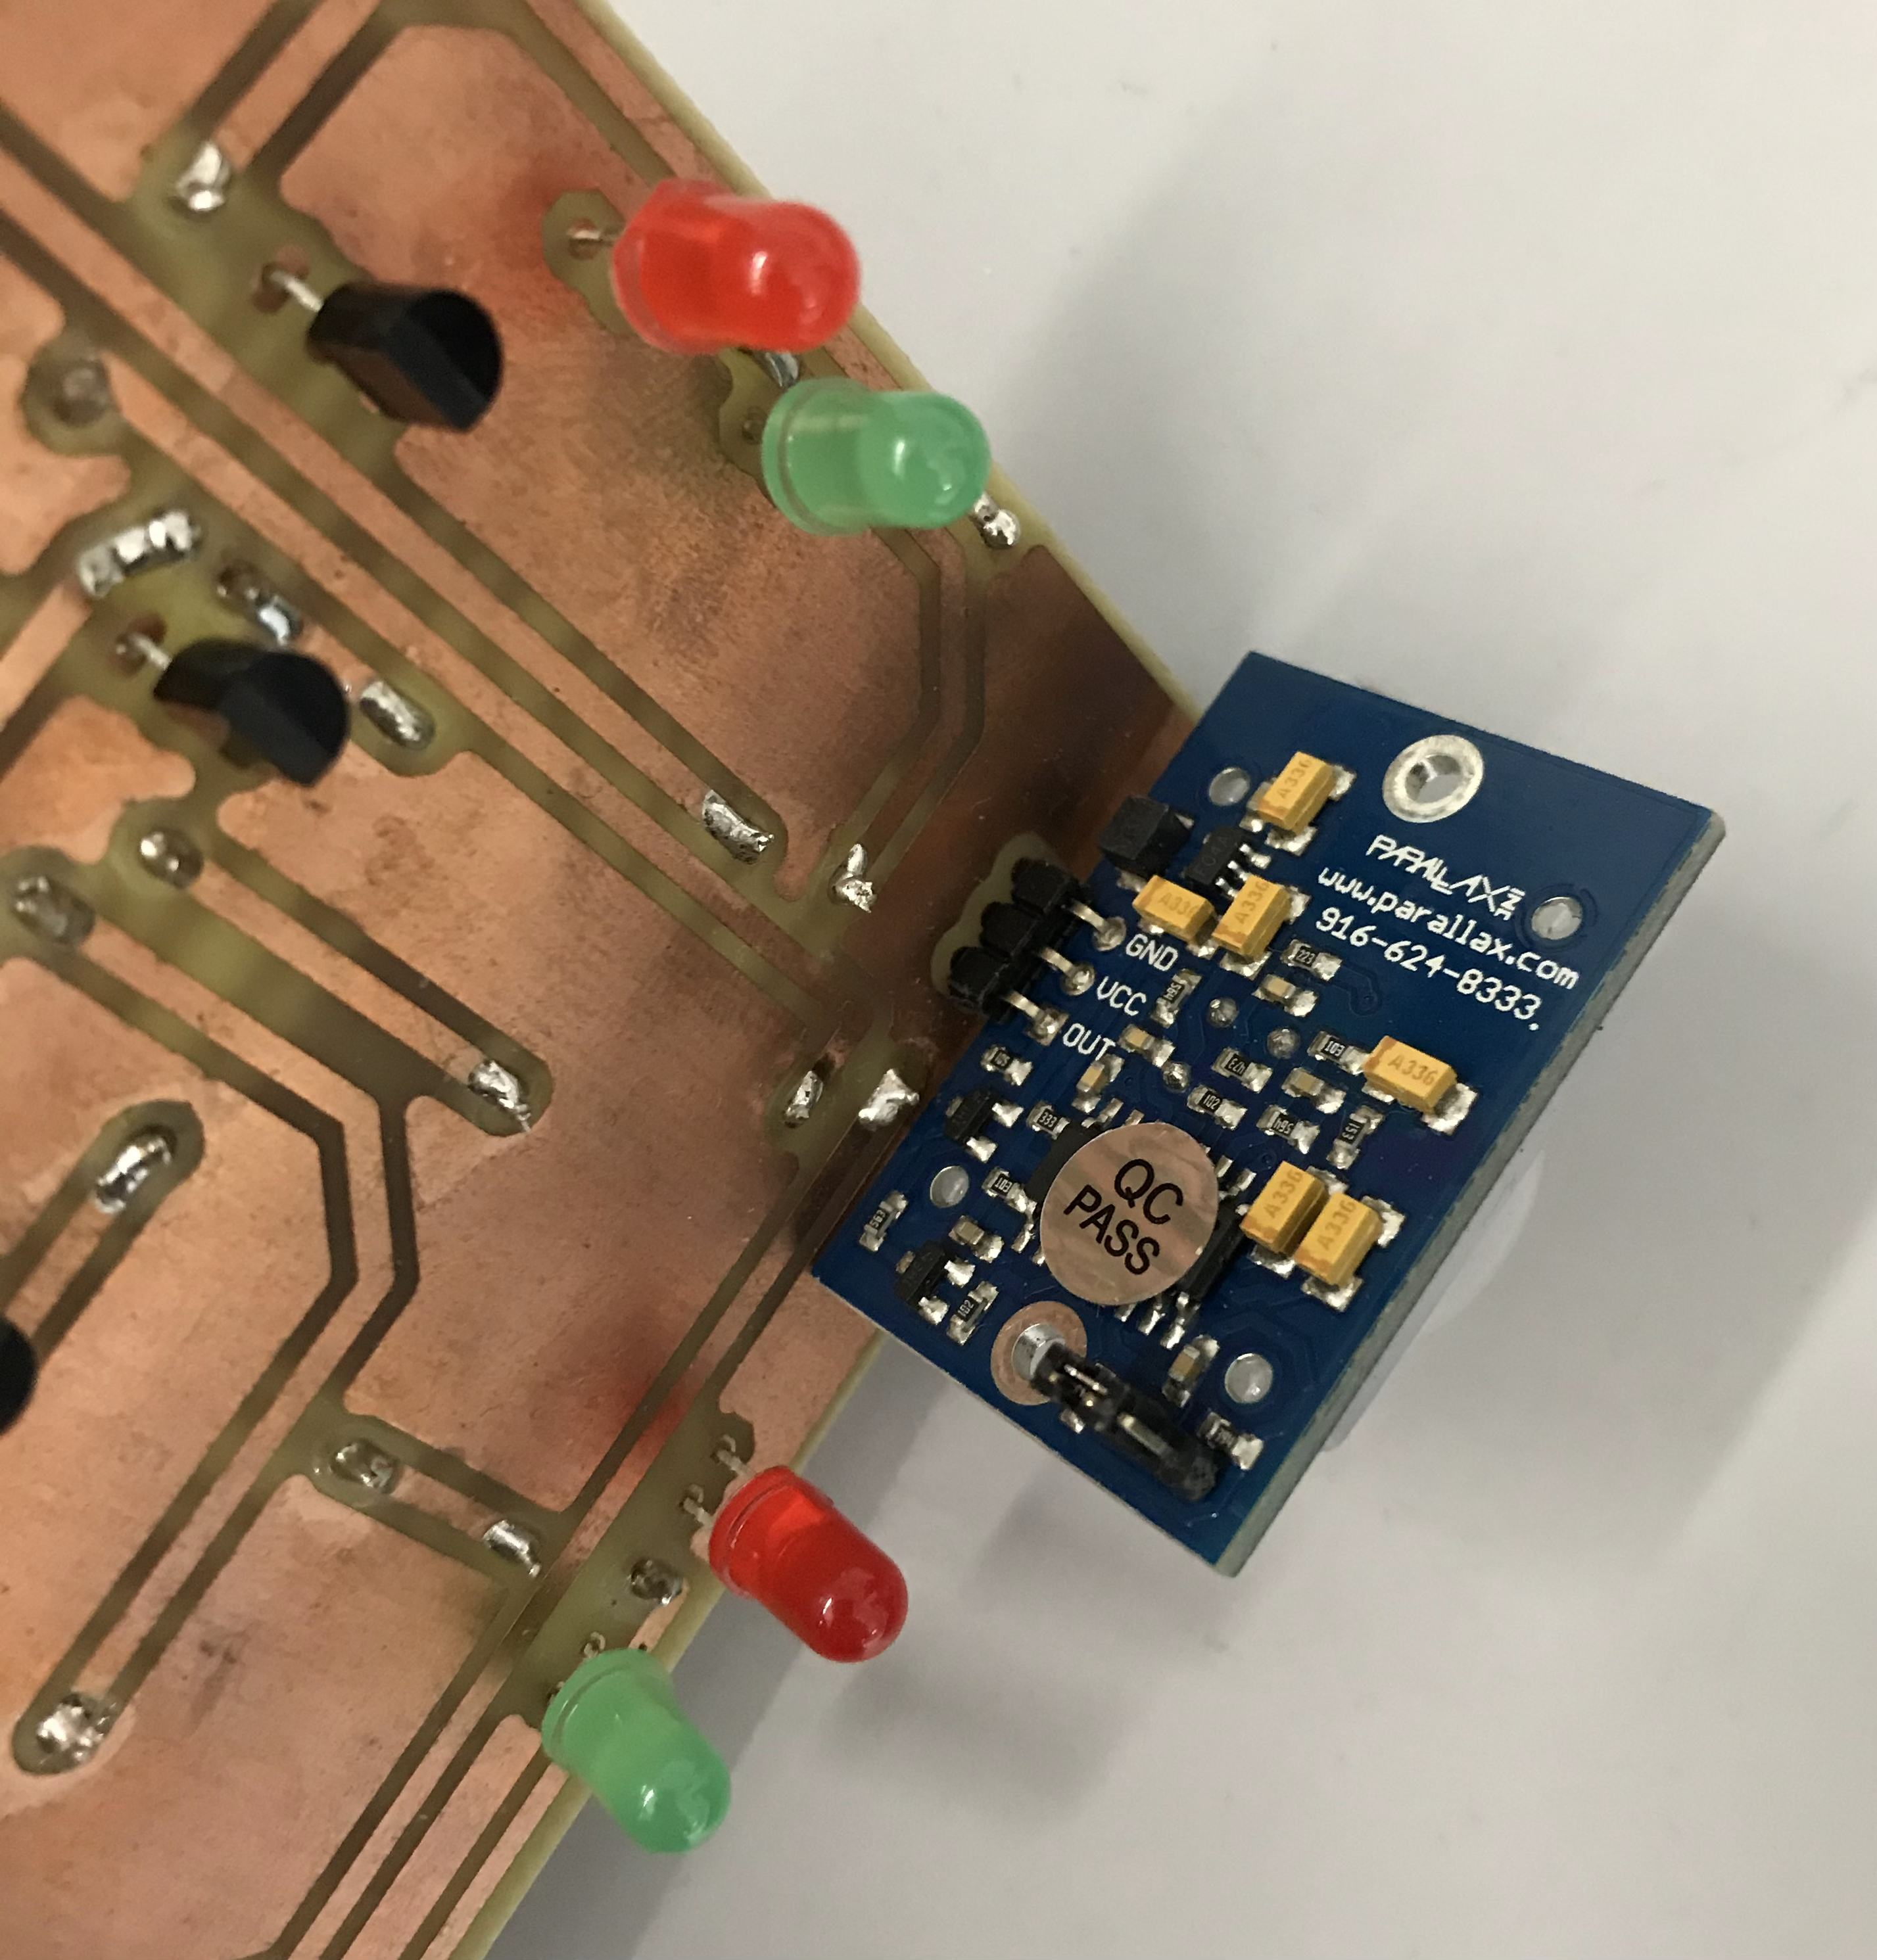LED: (599, 170, 865, 362), (700, 1461, 916, 1670), (536, 1640, 737, 1860), (755, 371, 996, 548)
